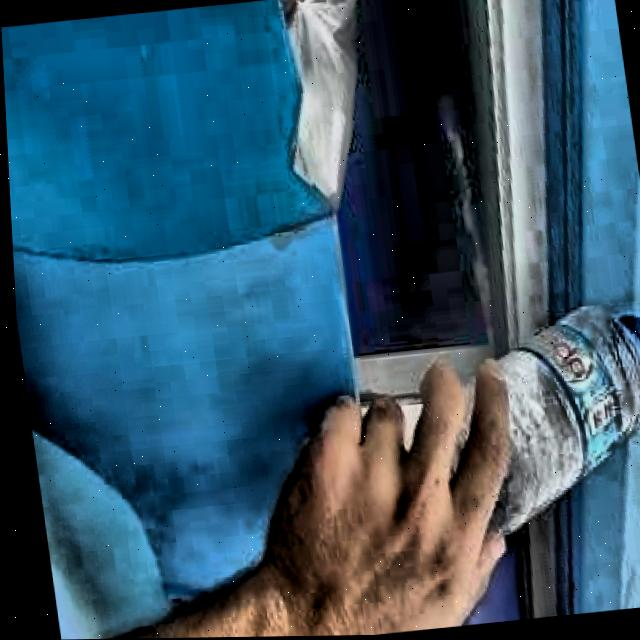plastic: (486, 308, 640, 536)
